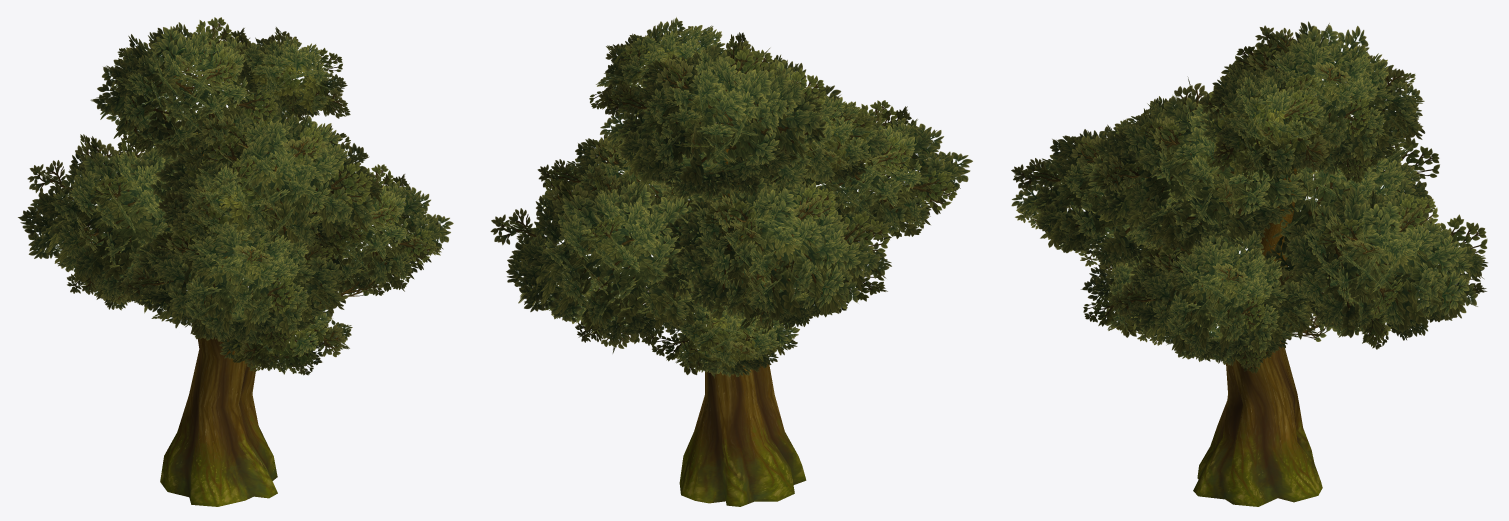
The model's file is tree_LOD0.glb.
The picture shows the model from 3 angles, left to right: view 1: azimuth 30°, elevation 25°; view 2: azimuth 150°, elevation 25°; view 3: azimuth 270°, elevation 25°; orthographic projection. The views are drawn at different scales.
Parts seen in each view (by area): view 1: tree_1_LOD0; view 2: tree_1_LOD0; view 3: tree_1_LOD0.
Part boxes in pixels (bbox=[...]): tree_1_LOD0: bbox=[18, 17, 453, 506]; tree_1_LOD0: bbox=[490, 17, 972, 506]; tree_1_LOD0: bbox=[1011, 21, 1487, 506].
Size of the model in its own units: 13.8 by 16.13 by 15.62.
Materials: 2 (2 with a texture image).
